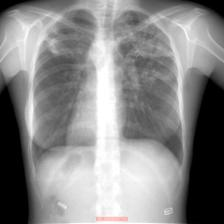tuberculosis: (23, 6, 188, 182)
